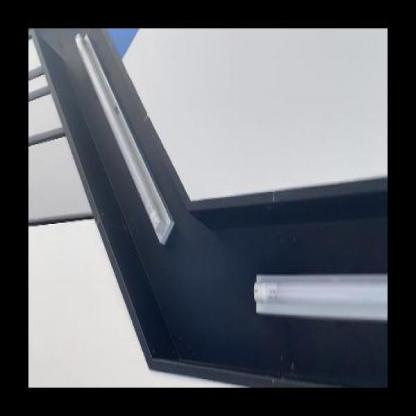light_off: (70, 30, 184, 254), (247, 218, 385, 346)
